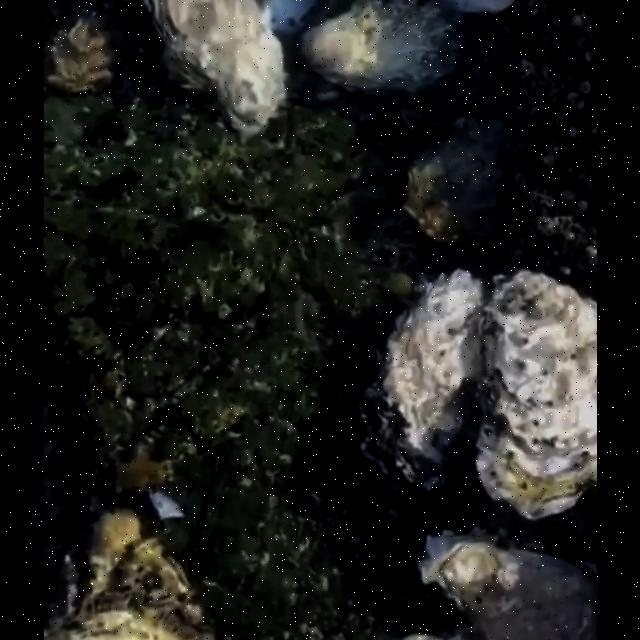Oyster-Closed: (472, 271, 596, 525), (44, 507, 214, 640), (138, 0, 287, 148), (411, 529, 596, 640), (296, 0, 457, 102), (401, 121, 513, 246), (44, 0, 130, 102)
Oyster-Open: (355, 271, 485, 505)
